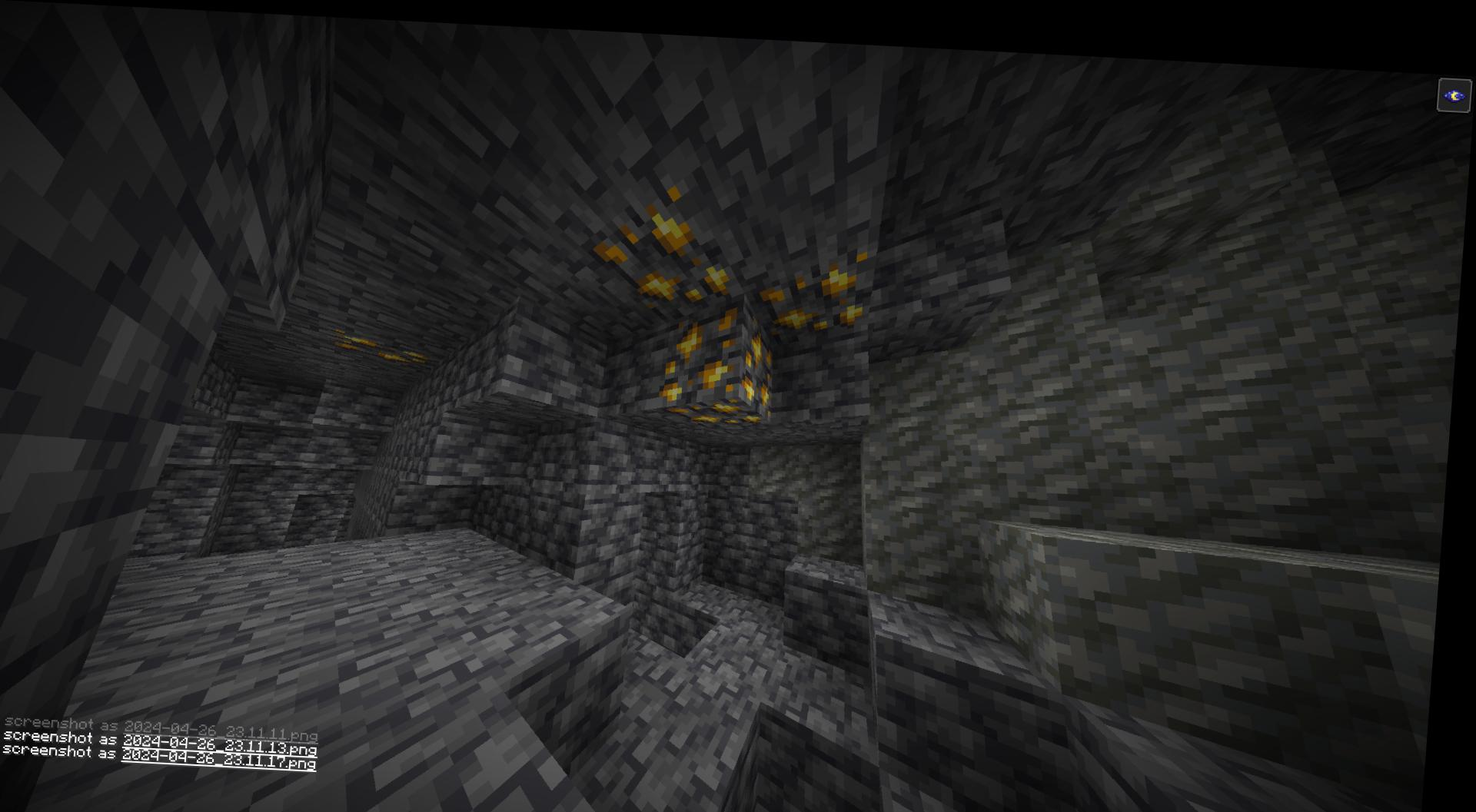gold ore: (599, 178, 738, 307), (758, 246, 874, 330), (662, 294, 748, 395), (334, 323, 441, 367), (743, 318, 784, 406), (681, 390, 763, 420)
